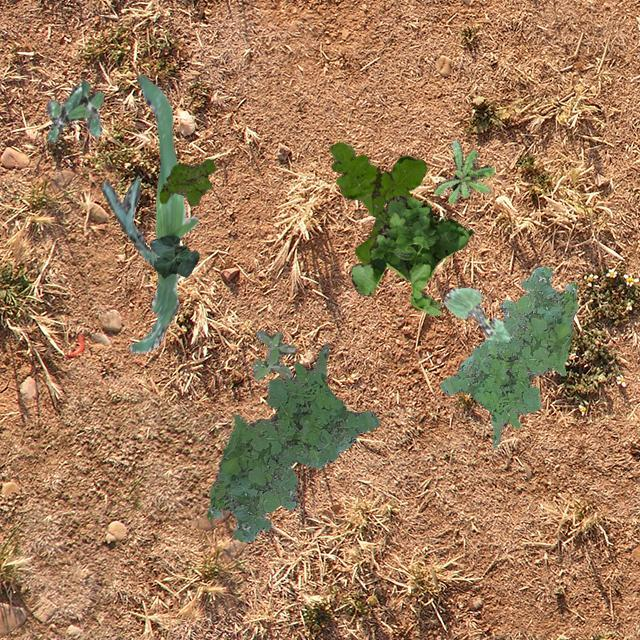crop: (100, 74, 196, 352), (442, 286, 510, 342), (148, 234, 198, 276)
weed: (205, 342, 378, 542), (440, 266, 578, 448), (349, 194, 472, 314), (328, 142, 427, 262), (433, 138, 492, 202), (44, 80, 102, 142), (158, 158, 214, 205), (252, 328, 294, 379)
